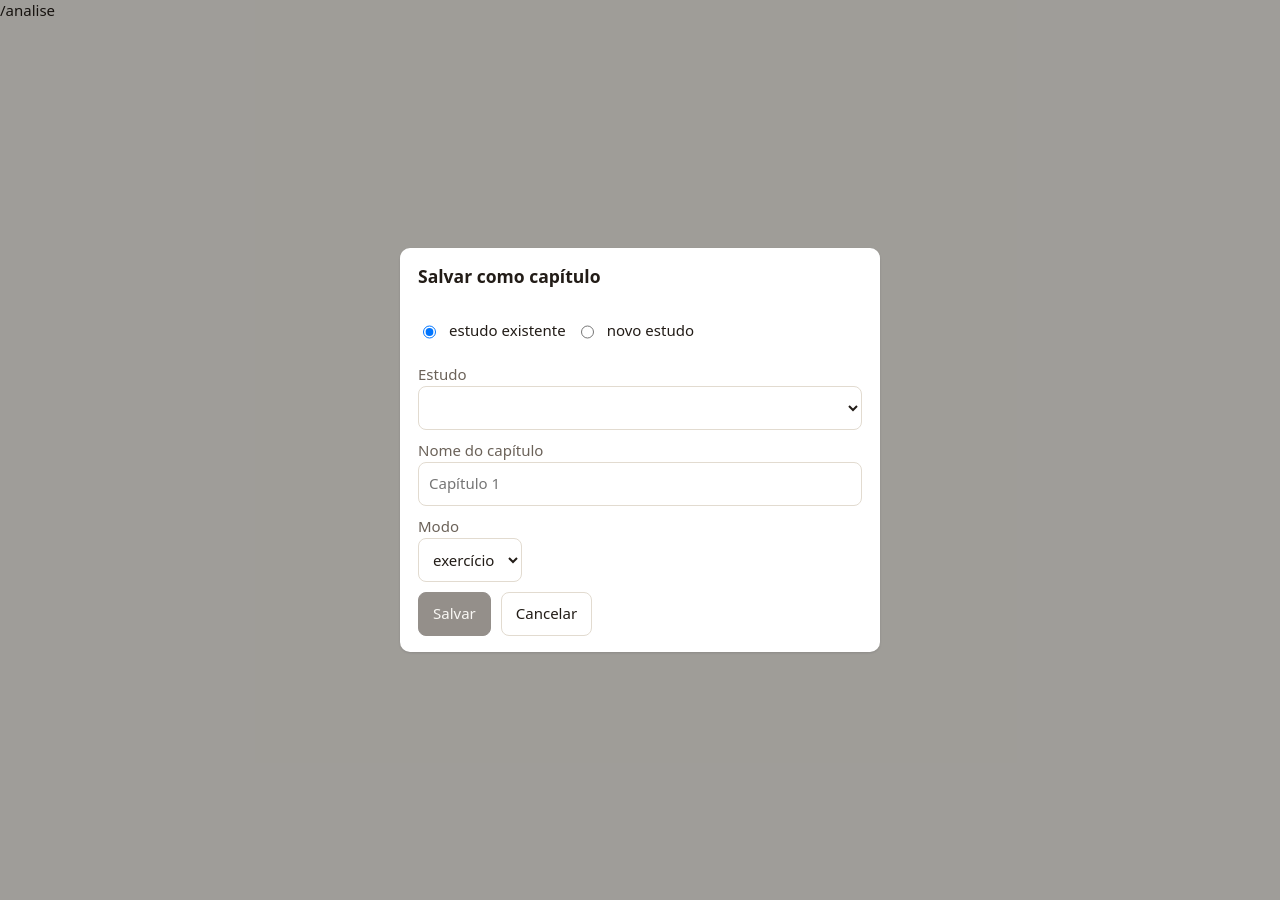
Scenario: mostra o erro do servidor sem fechar
This screenshot has width=1280, height=900.
Click the radio button labelled "novo estudo".
click(587, 332)  # box [581, 310, 594, 354]
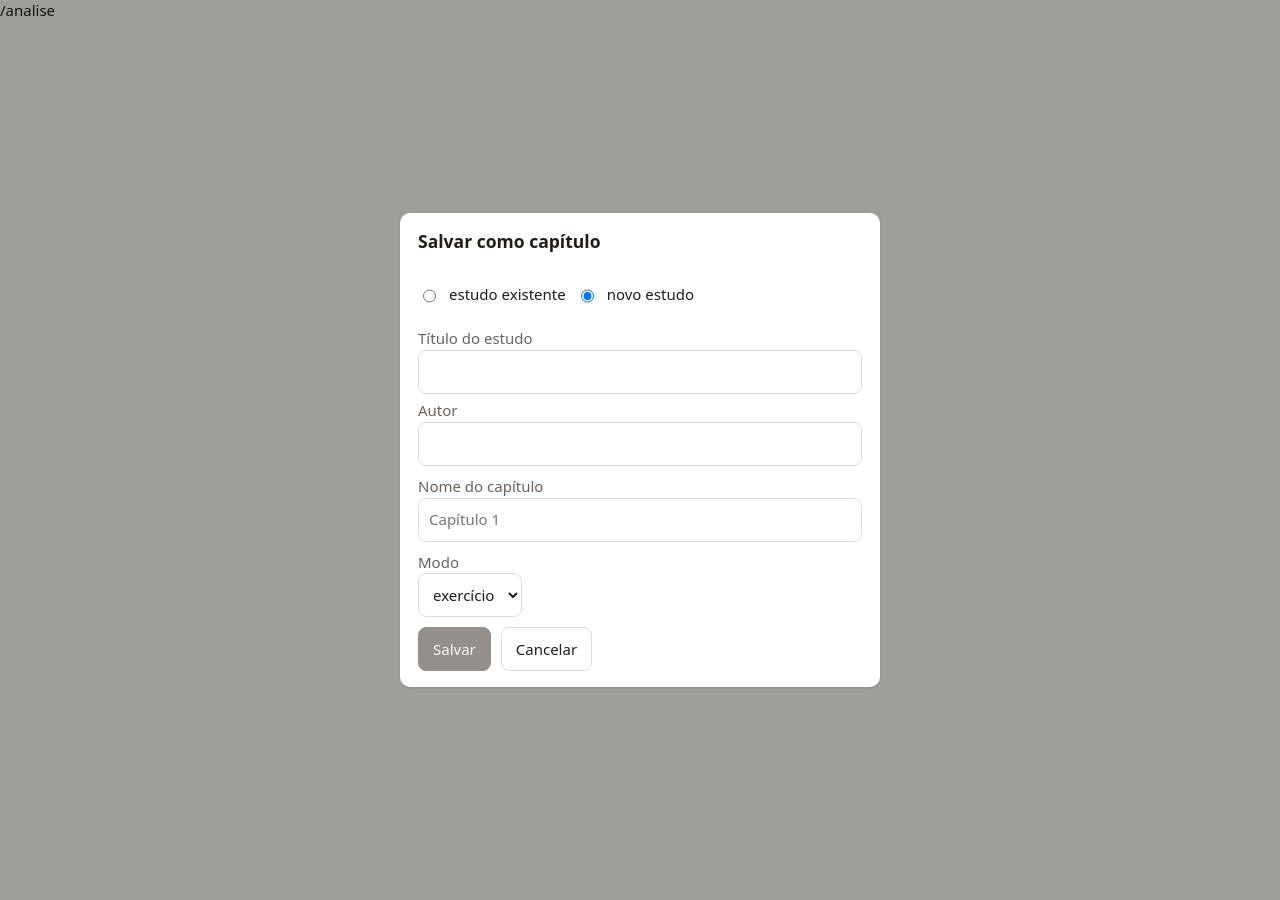
Type "Aberturas" into the field named "Título do estudo".
click(640, 372); type("Aberturas")  # box [418, 350, 862, 394]
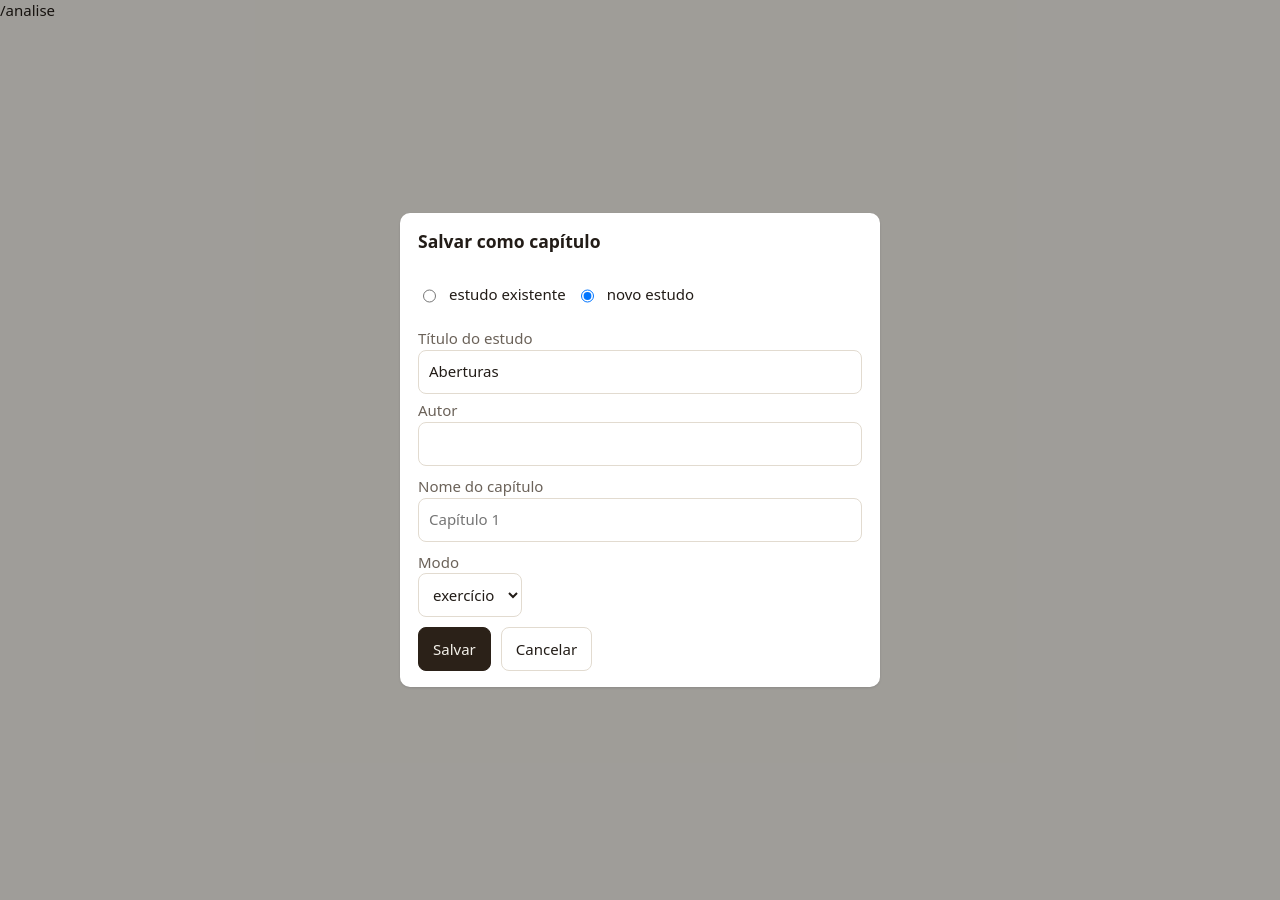
Click the button "Salvar".
click(454, 650)  # box [418, 628, 491, 672]
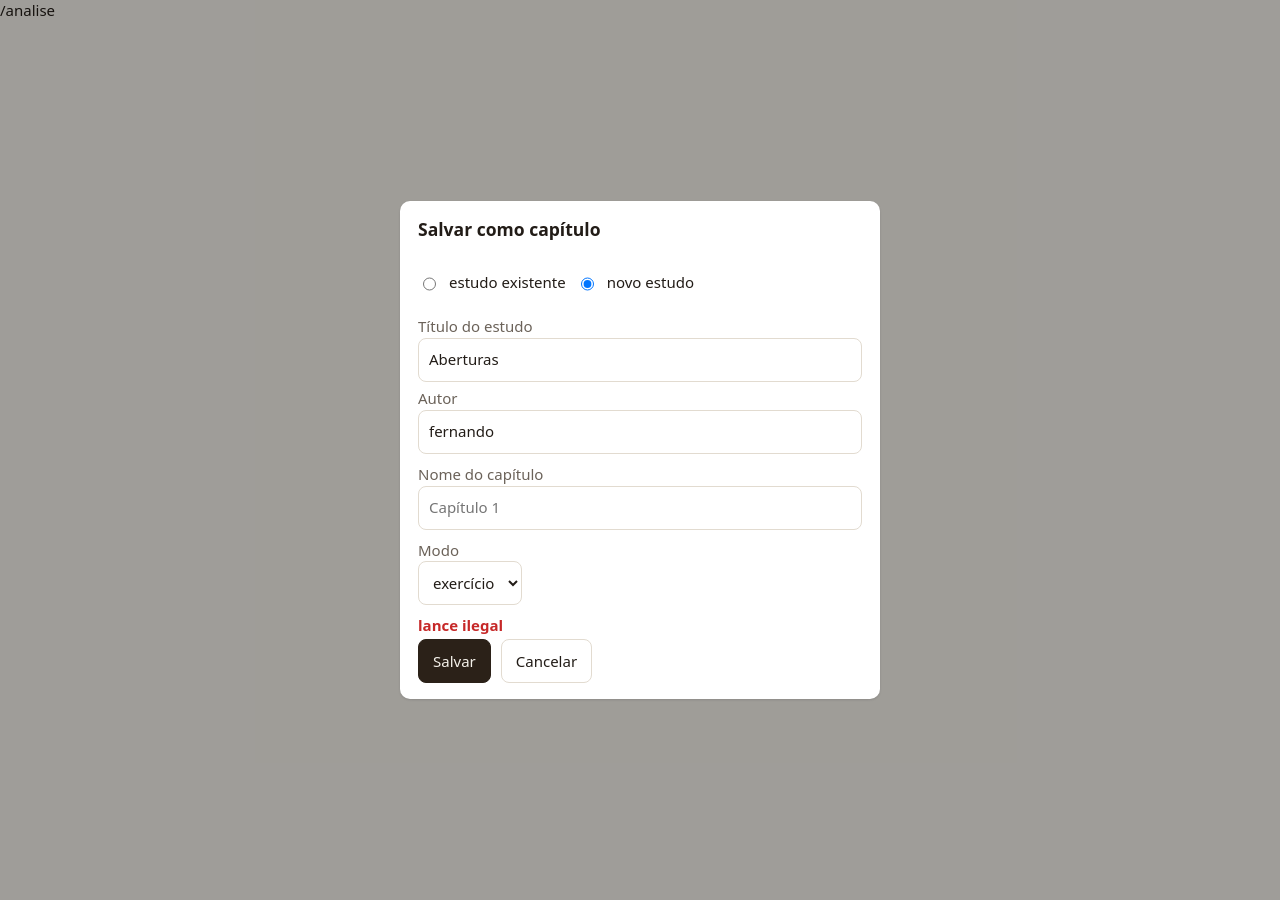
Check: the text "lance ilegal" is shown, box [418, 616, 503, 636]
